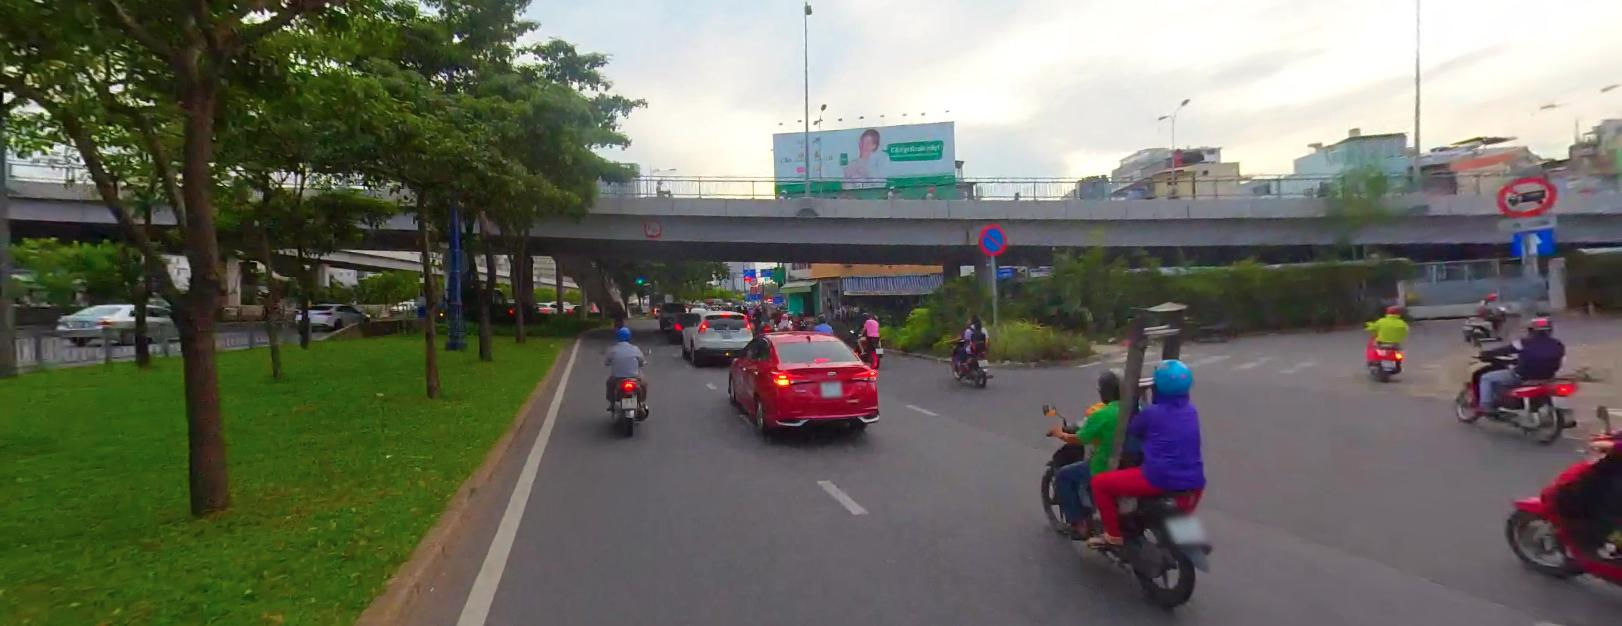Cam con lai: (1495, 171, 1557, 218), (643, 217, 663, 235)
Cam dung va do: (978, 222, 1008, 255)
